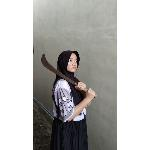Golok: (40, 50, 90, 94)
